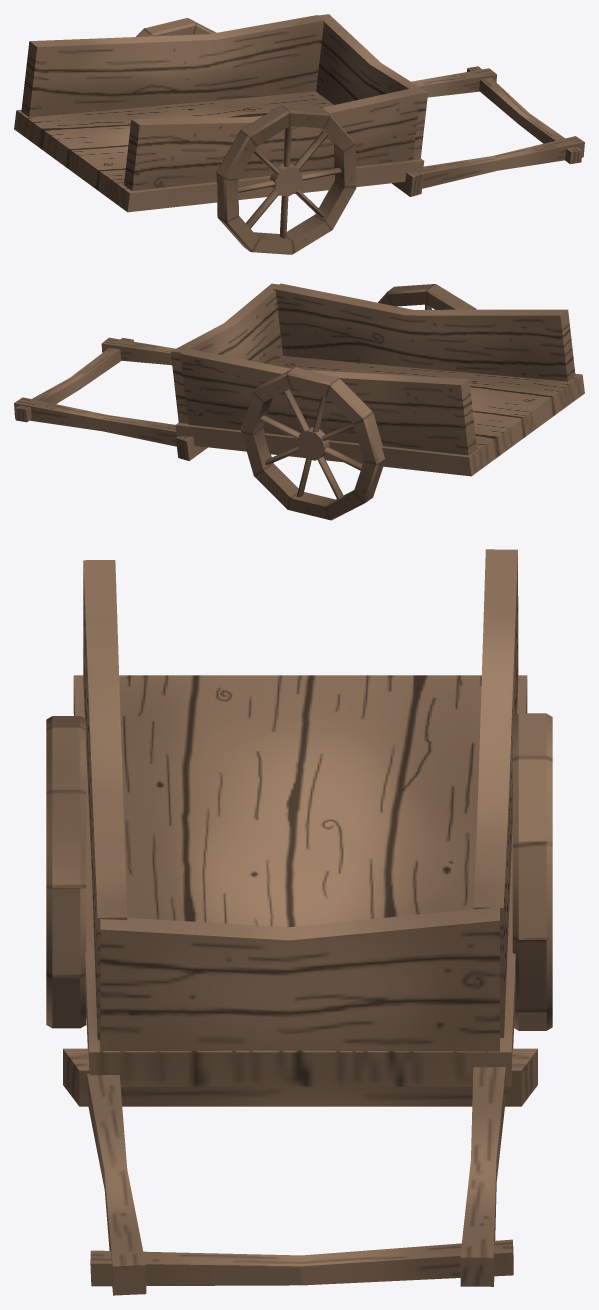
Rendered from wagon_mesh.fbx.
3 views of the same model, one above another, from view 1: azimuth 30°, elevation 25°; view 2: azimuth 150°, elevation 25°; view 3: azimuth 270°, elevation 25° (orthographic). The views are drawn at different scales.
Visible parts, largest first — view 1: polySurface115; view 2: polySurface115; view 3: polySurface115.
Part boxes in pixels (x1,y1,x2,y2): polySurface115: [14, 14, 584, 254]; polySurface115: [14, 283, 584, 520]; polySurface115: [46, 549, 552, 1295].
Size of the model in its own units: 351 by 118 by 165.
